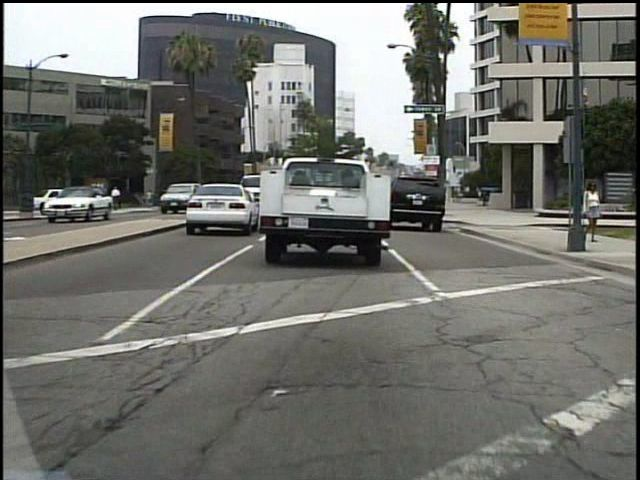person: (580, 174, 602, 246), (110, 182, 125, 216), (104, 188, 119, 219), (147, 187, 156, 209)
